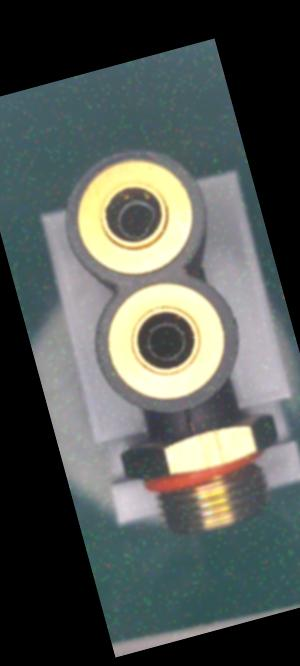craze: (178, 407, 200, 440)
